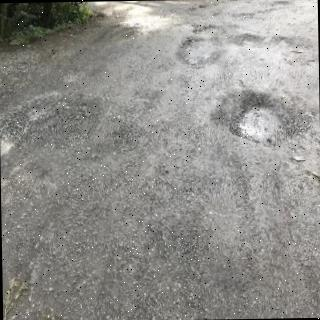pothole: (222, 85, 311, 148)
